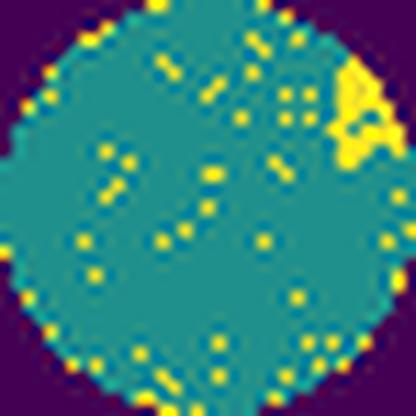Edge-Loc: (324, 55, 416, 171)
